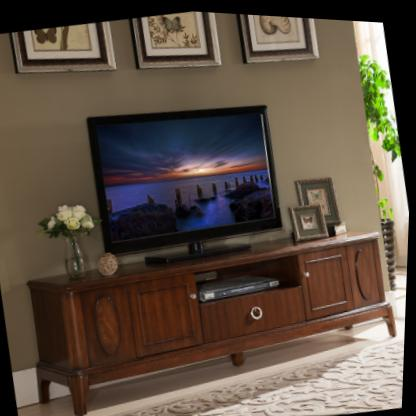TV stand: (16, 203, 410, 416)
